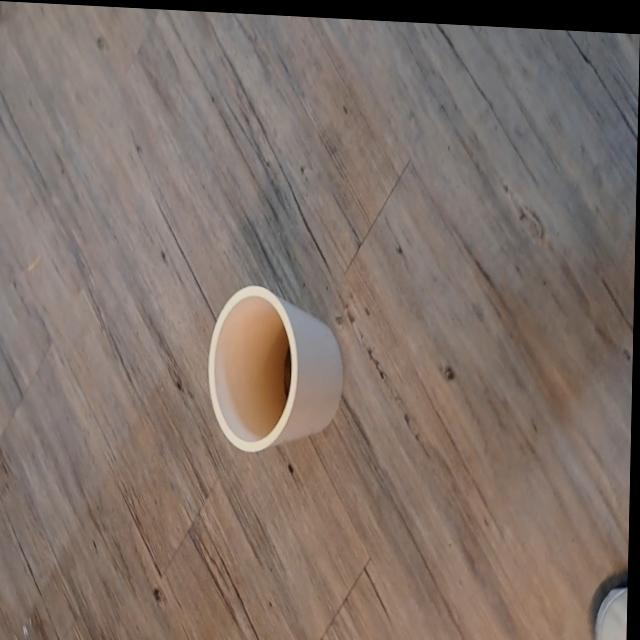CORAL: (195, 251, 362, 490)
